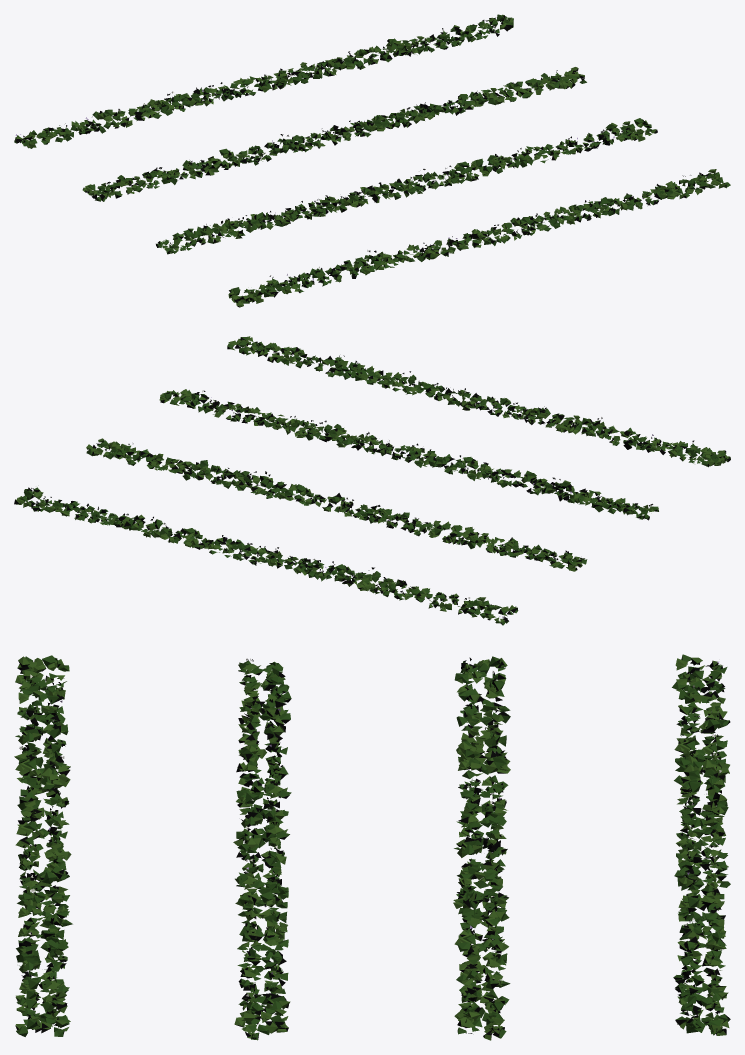
File: pole_brambory_vzrostle.glb
3 views of the same model, one above another, from view 1: azimuth 30°, elevation 25°; view 2: azimuth 150°, elevation 25°; view 3: azimuth 270°, elevation 25° (orthographic). The views are drawn at different scales.
Visible parts, largest first — view 1: trs.15983; view 2: trs.15983; view 3: trs.15983.
Boxes of the visible parts, box(x1,y1,x2,y2) form: trs.15983: box(14, 14, 730, 307); trs.15983: box(14, 336, 730, 625); trs.15983: box(14, 654, 730, 1040).
Bounding box in the file's own units: 14.82 × 0.484 × 12.07.
Materials: 1 (1 with a texture image).
